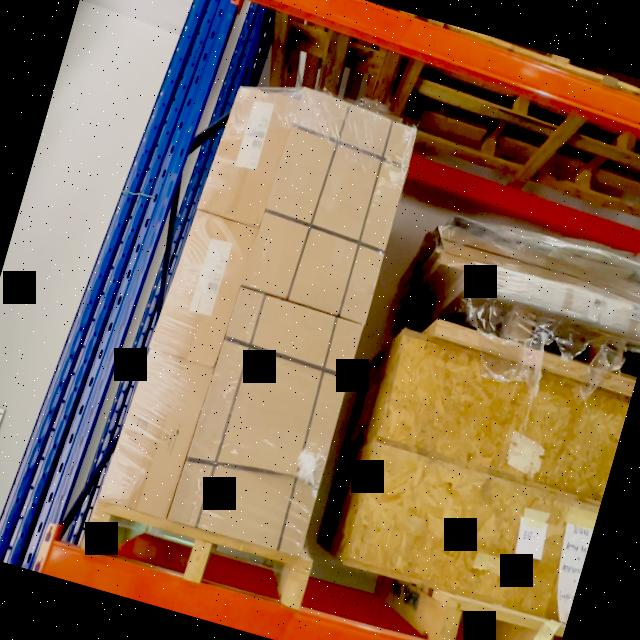box: (170, 289, 362, 556), (246, 90, 414, 322), (100, 349, 212, 521), (149, 206, 256, 366), (198, 85, 300, 229), (161, 514, 165, 517)
